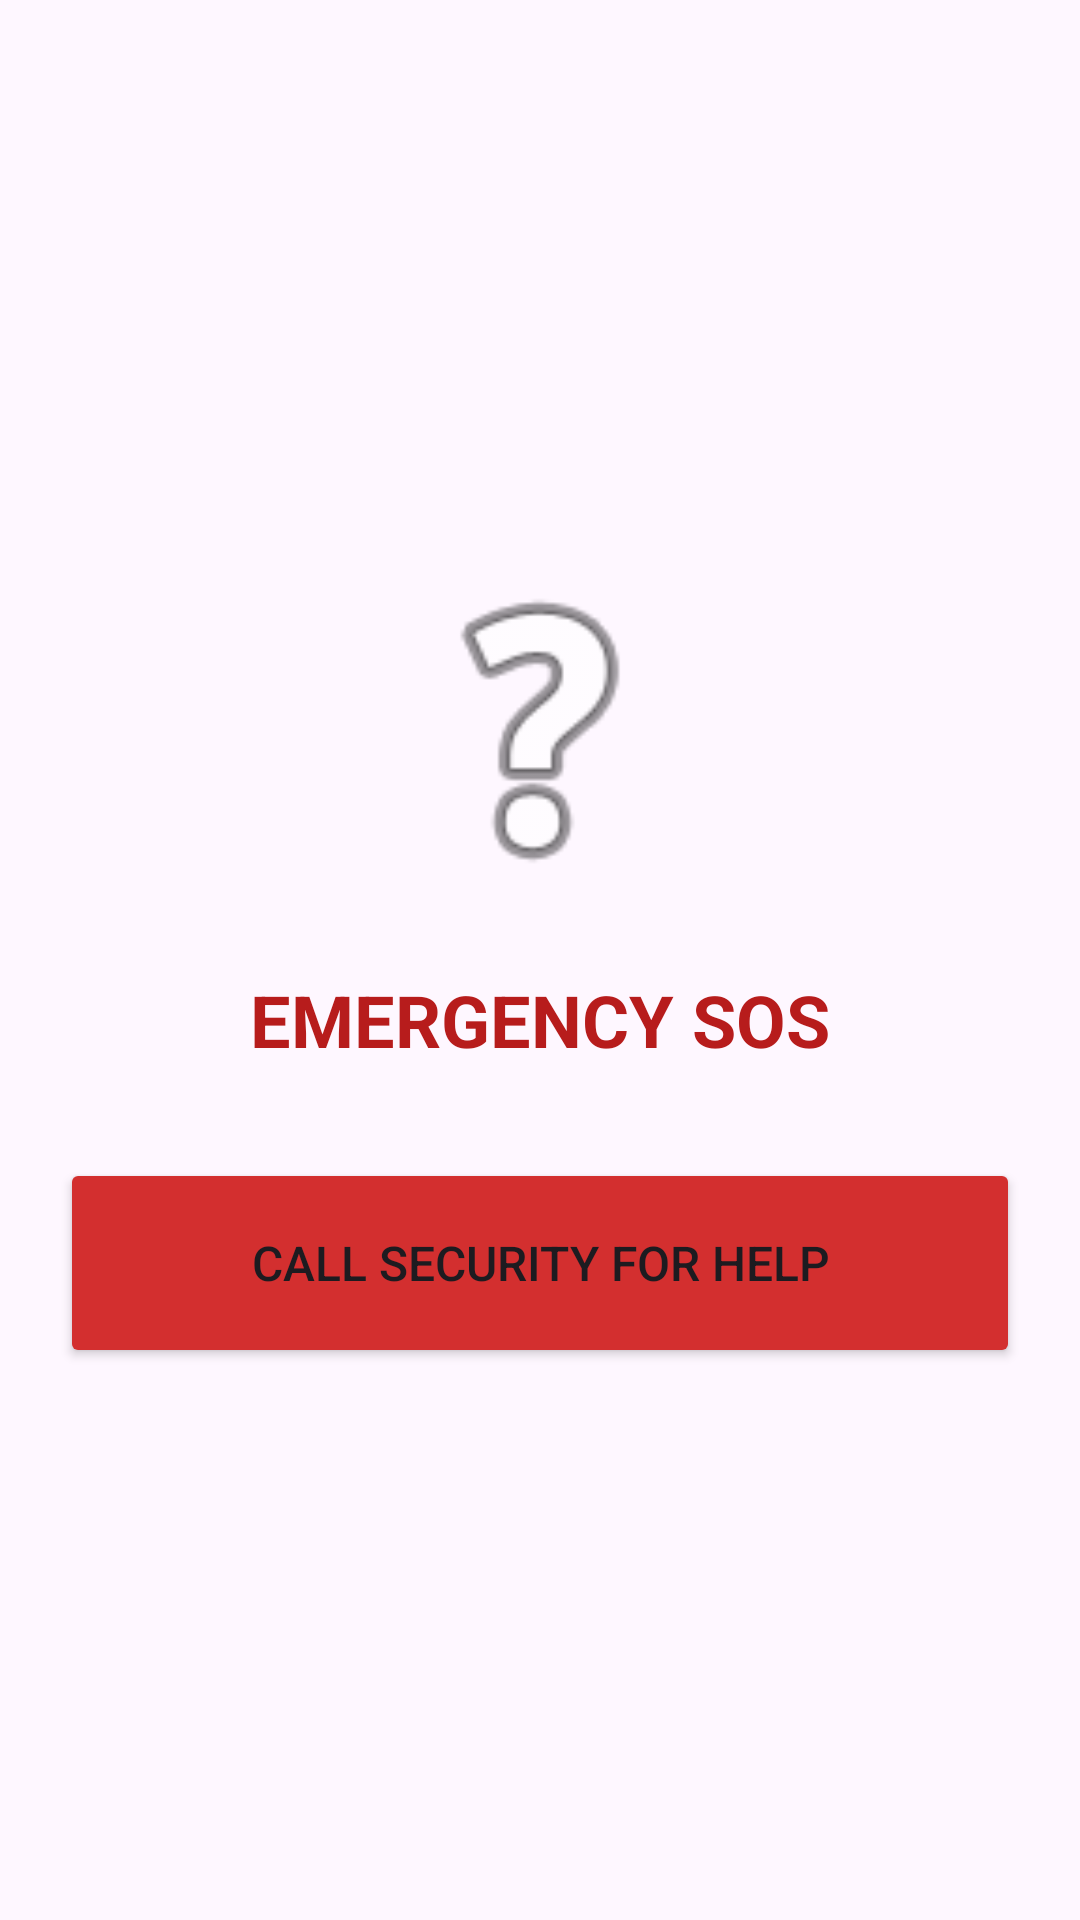

Where icons sit on this 1080×1920 app screen, as bbox(x1, y1, x2, y2):
help: bbox(461, 602, 620, 860)
